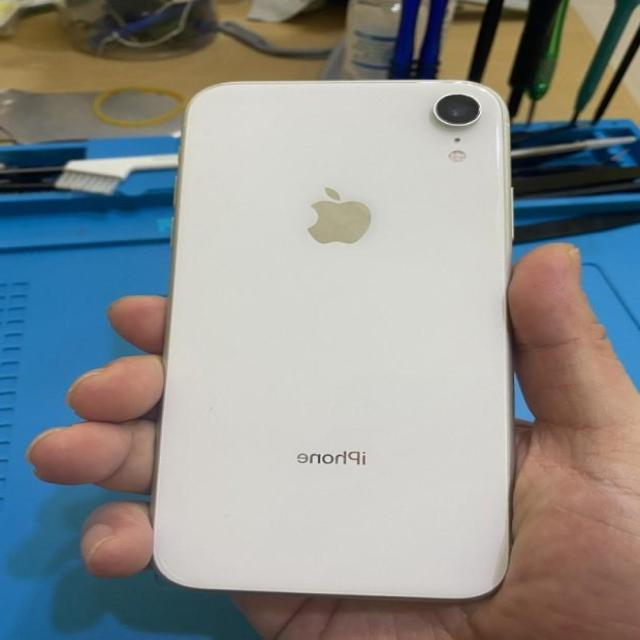mobile: (151, 80, 508, 600)
